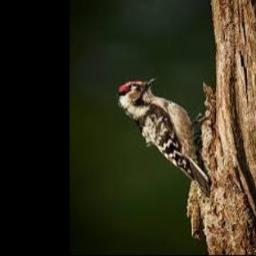Woodpecker: (116, 77, 209, 195)
